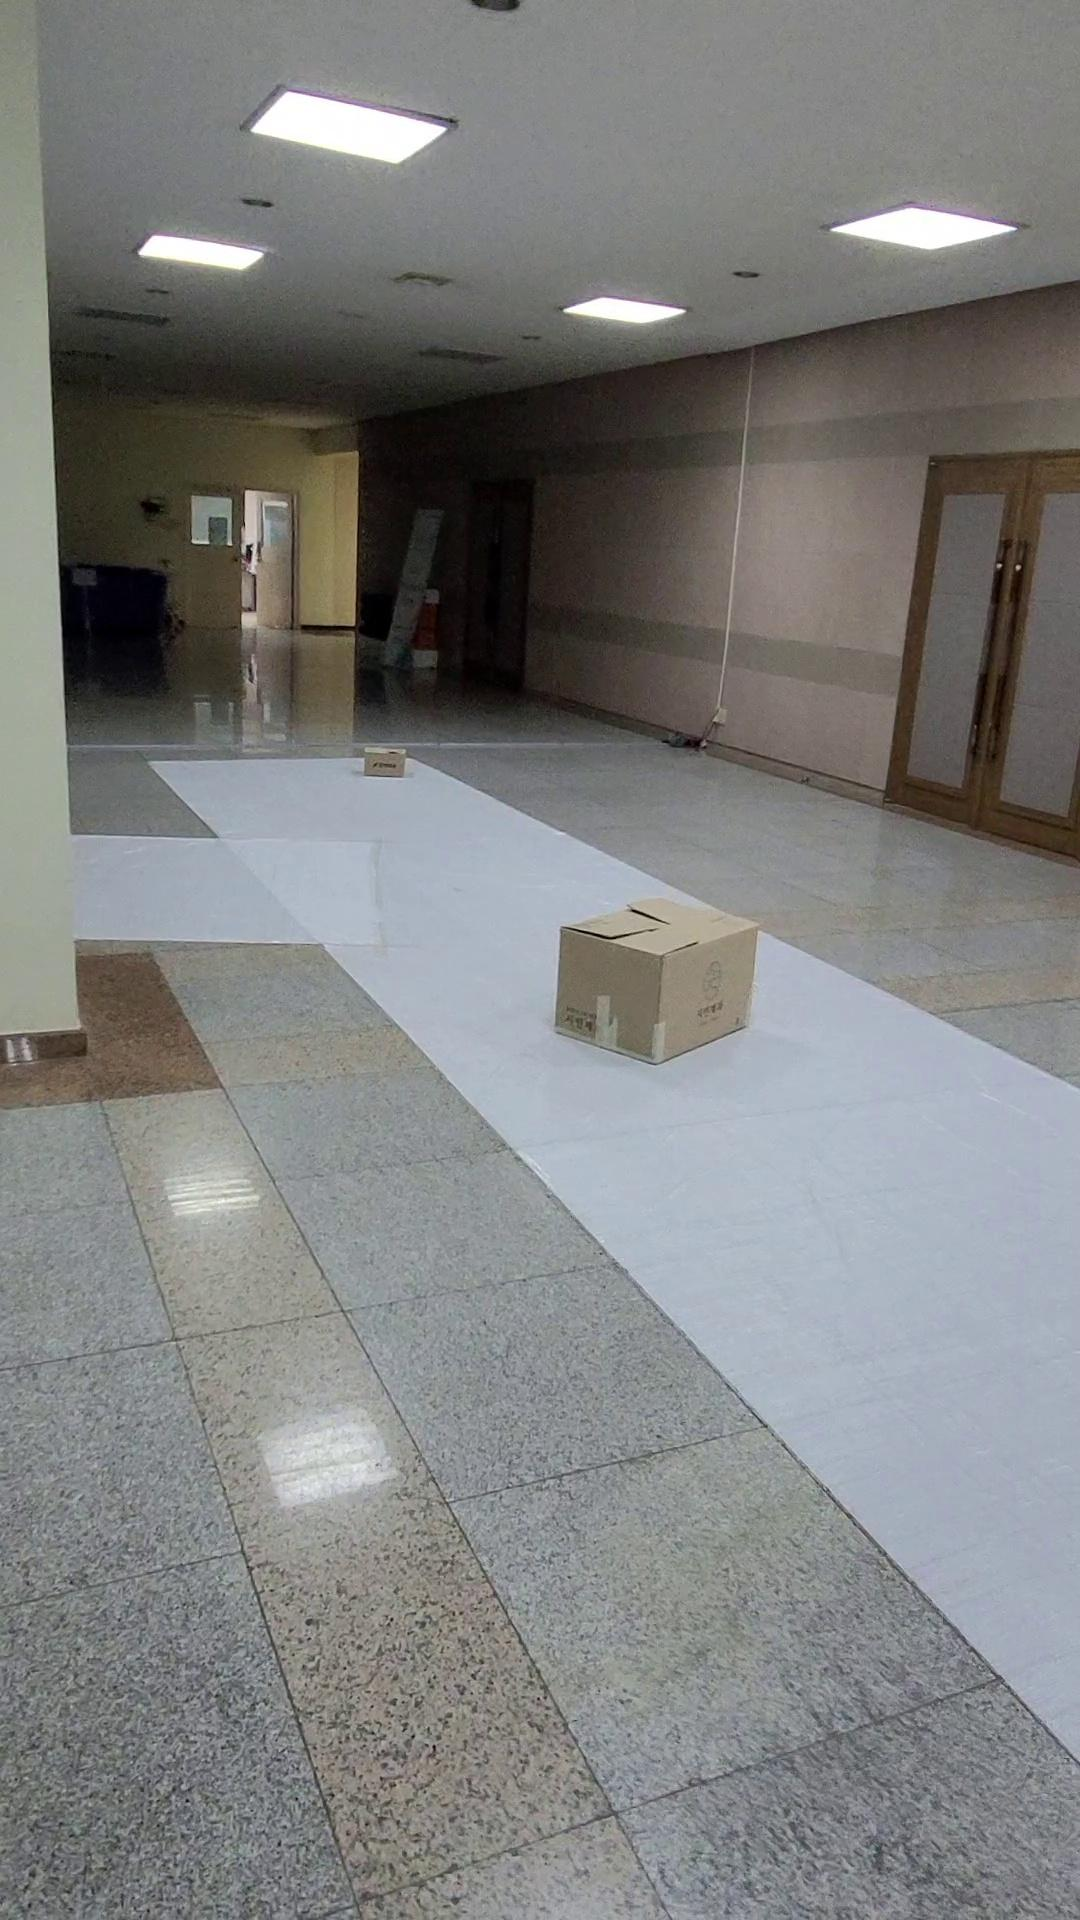Box: (502, 855, 807, 1087), (328, 731, 425, 800)
